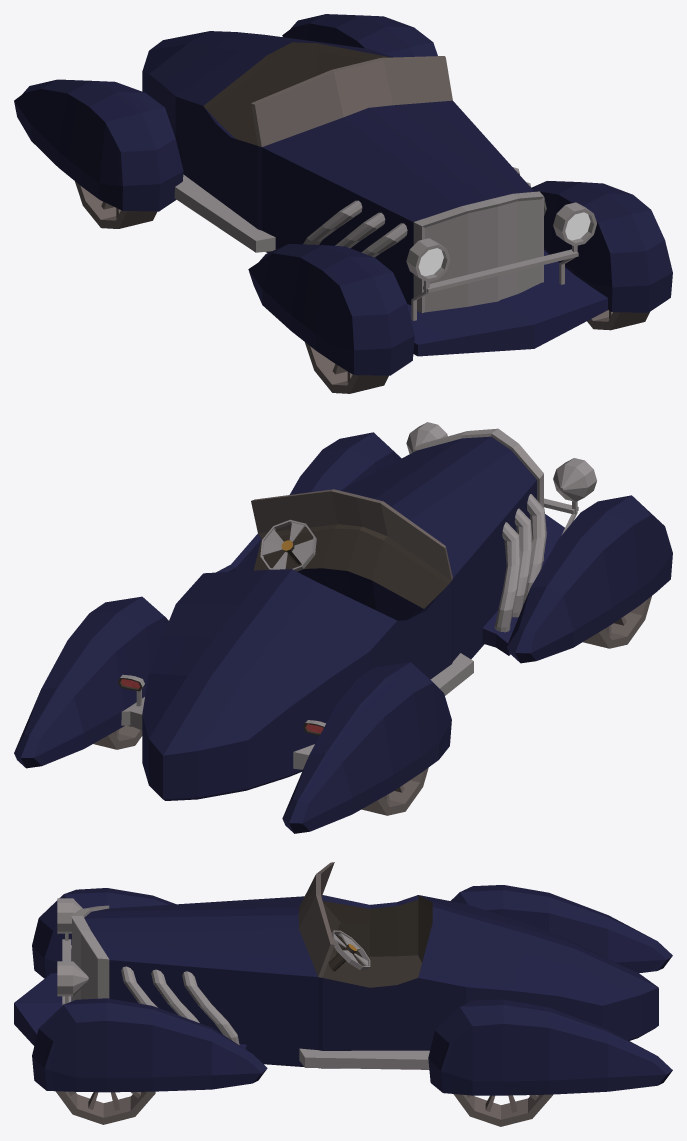
The model's file is Car_Antonio.fbx.
The picture shows the model from 3 angles, top to bottom: view 1: azimuth 30°, elevation 25°; view 2: azimuth 150°, elevation 25°; view 3: azimuth 270°, elevation 25°; orthographic projection. The views are drawn at different scales.
Visible parts, largest first — view 1: Car_Antonio, front_right_wheel, back_right_wheel, front_left_wheel; view 2: Car_Antonio, front_right_wheel, back_right_wheel, back_left_wheel; view 3: Car_Antonio, front_left_wheel, back_left_wheel.
Boxes of the visible parts, bbox=[...] form: Car_Antonio: bbox=[14, 14, 672, 375]; front_right_wheel: bbox=[305, 342, 388, 393]; back_right_wheel: bbox=[75, 181, 156, 228]; front_left_wheel: bbox=[587, 310, 649, 330]; Car_Antonio: bbox=[14, 422, 672, 833]; front_right_wheel: bbox=[583, 596, 651, 648]; back_right_wheel: bbox=[361, 768, 428, 815]; back_left_wheel: bbox=[93, 725, 142, 749]; Car_Antonio: bbox=[14, 862, 672, 1095]; front_left_wheel: bbox=[56, 1091, 155, 1124]; back_left_wheel: bbox=[453, 1094, 552, 1126].
Bounding box in the file's own units: 215 × 122 × 412.
